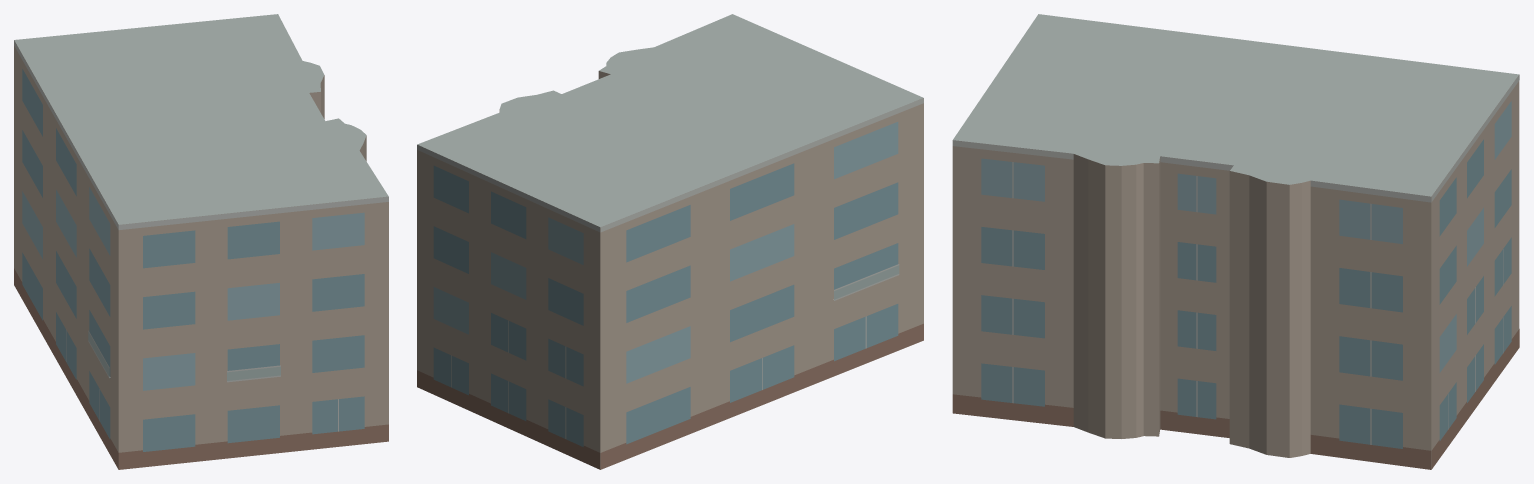
File: survey-upis-32875304.glb
3 renders of one model, left to right at view 1: azimuth 30°, elevation 25°; view 2: azimuth 150°, elevation 25°; view 3: azimuth 270°, elevation 25°, orthographic. The views are drawn at different scales.
Visible parts, largest first — view 1: survey-upis-32875304.tmp; view 2: survey-upis-32875304.tmp; view 3: survey-upis-32875304.tmp.
Part boxes in pixels (bbox=[...]): survey-upis-32875304.tmp: bbox=[14, 14, 388, 469]; survey-upis-32875304.tmp: bbox=[417, 14, 923, 469]; survey-upis-32875304.tmp: bbox=[952, 14, 1519, 469].
Bounding box in the file's own units: 16.06 × 11.2 × 21.06.
